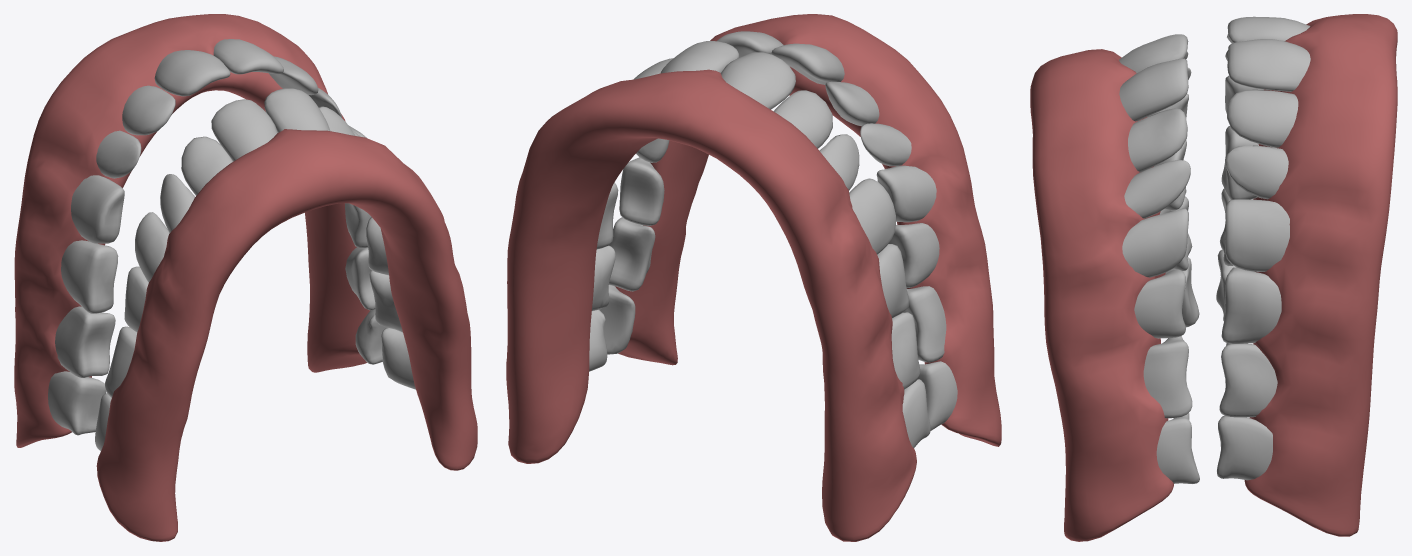
3 renders of one model, left to right at view 1: azimuth 30°, elevation 25°; view 2: azimuth 150°, elevation 25°; view 3: azimuth 270°, elevation 25°, orthographic. The views are drawn at different scales.
Parts seen in each view (by area): view 1: Low_Teeth27_Low_Teeth27_0; view 2: Low_Teeth27_Low_Teeth27_0; view 3: Low_Teeth27_Low_Teeth27_0.
Part boxes in pixels (left/top/right/bottom): Low_Teeth27_Low_Teeth27_0: left=14, top=14, right=477, bottom=541; Low_Teeth27_Low_Teeth27_0: left=506, top=14, right=1001, bottom=541; Low_Teeth27_Low_Teeth27_0: left=1030, top=14, right=1397, bottom=541.
Bounding box in the file's own units: 0.9359 × 0.962 × 0.7521.
